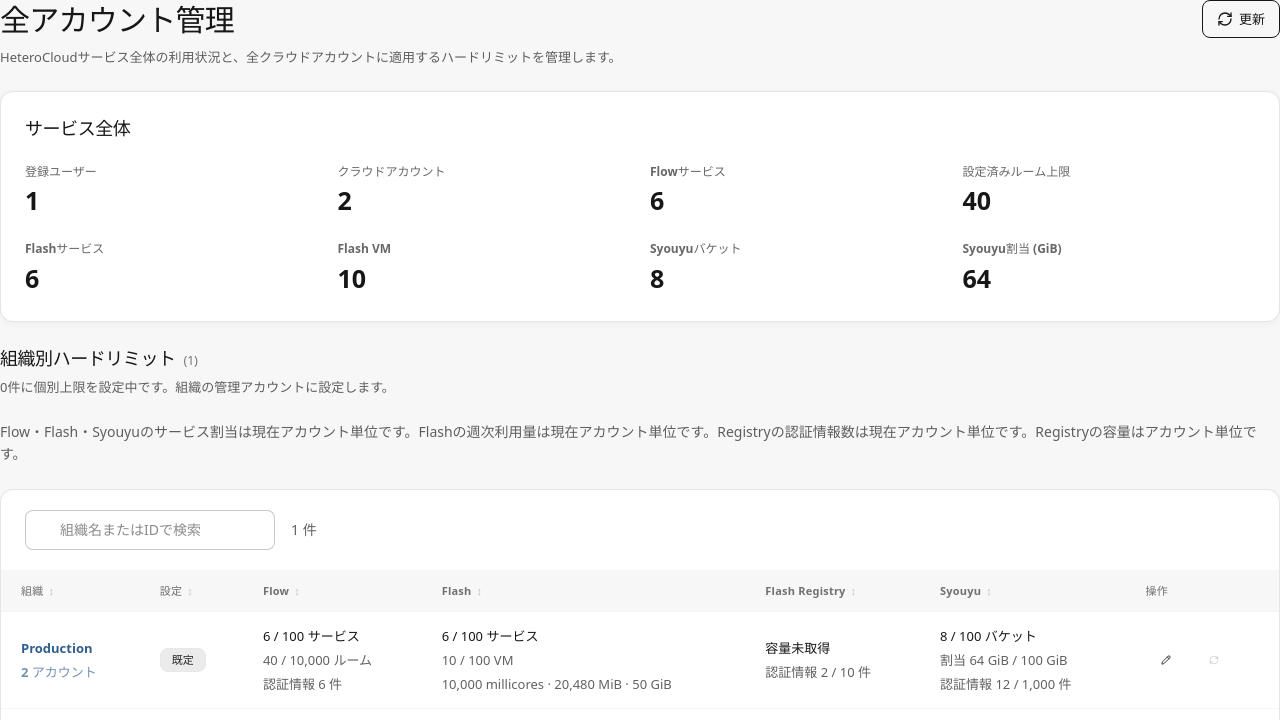
Test case: OwnerQuotasPage › 組織内のアカウントを集計し、不明な実使用量を不明のまま表示する
Click the link with aria-label "Productionの使用量と上限を表示". click: click(59, 660)
box: 21,638 -> 97,682
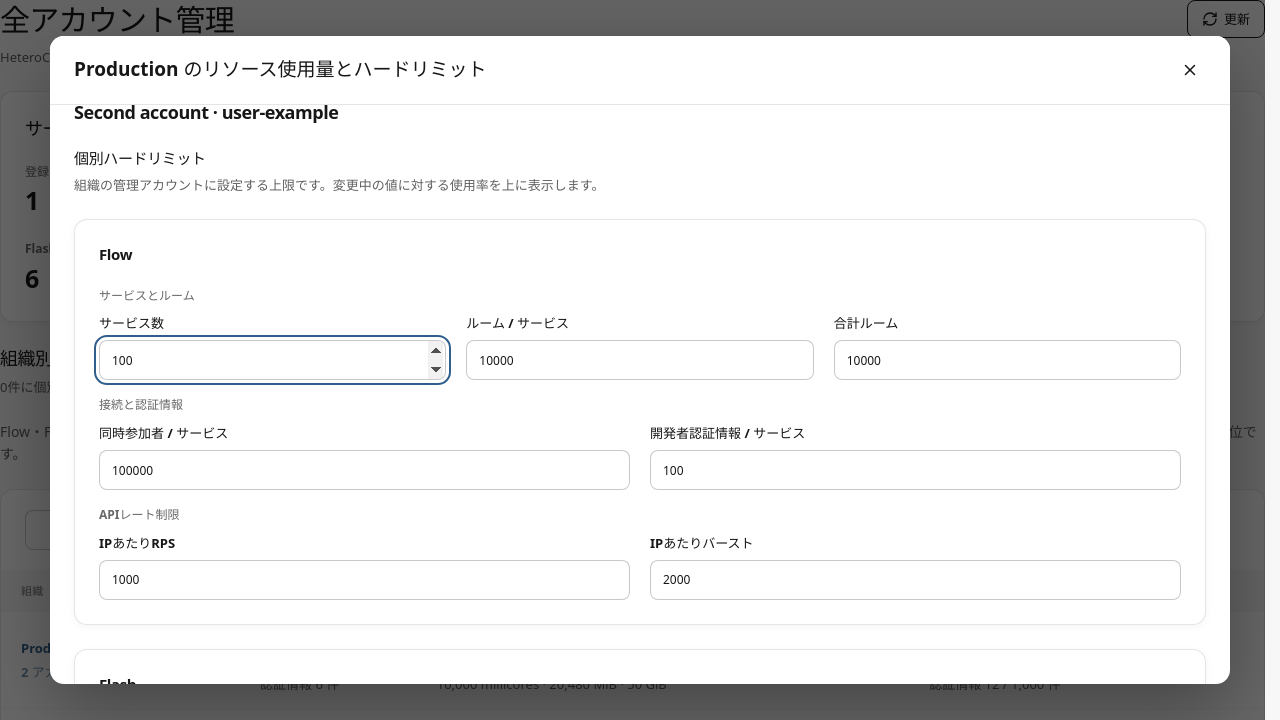
expect the heading "Second account · user-example" is shown: met, box 74,100 -> 338,124
